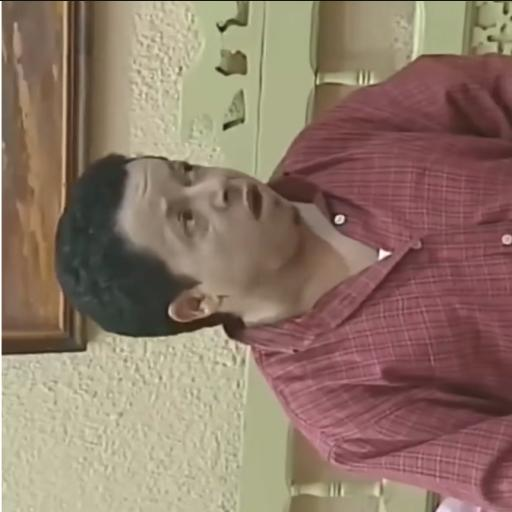fouchika: (55, 154, 301, 338)
